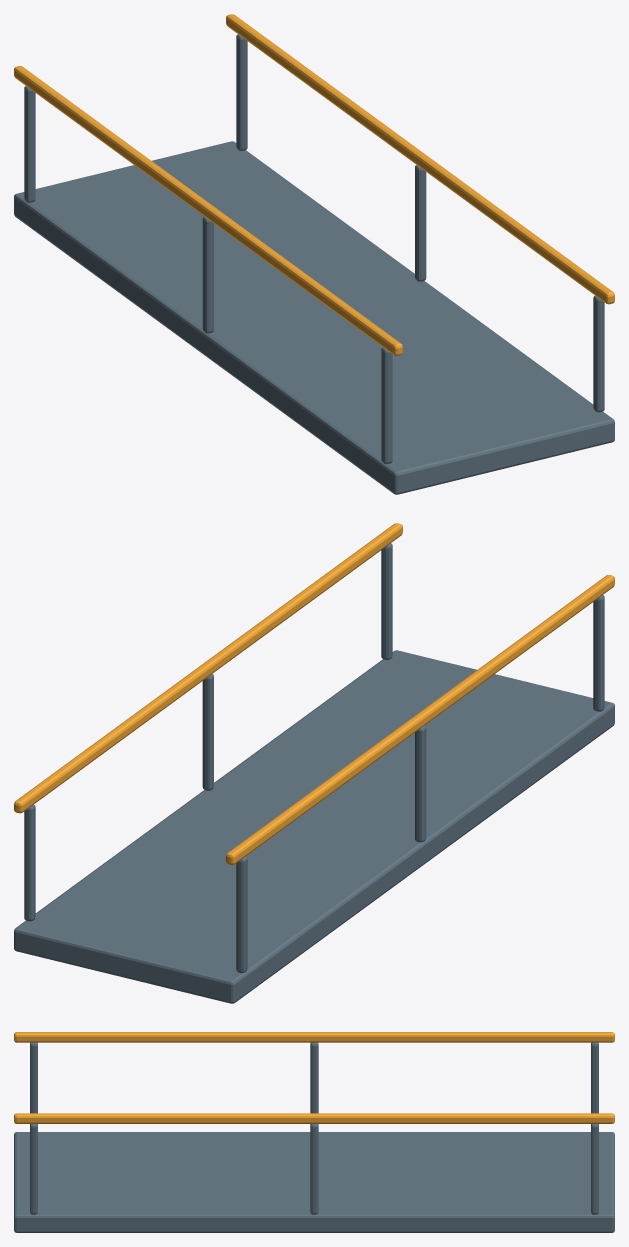
Rendered from CL_Bridge_2x6.fbx.
The picture shows the model from 3 angles, top to bottom: view 1: azimuth 30°, elevation 25°; view 2: azimuth 150°, elevation 25°; view 3: azimuth 270°, elevation 25°; orthographic projection. The views are drawn at different scales.
Visible parts, largest first — view 1: BridgeDeck, Rail.001, Rail, Post, Post.001, Post.003, Post.002, Post.005, Post.004; view 2: BridgeDeck, Rail.001, Rail, Post.001, Post.002, Post.005, Post, Post.003, Post.004; view 3: BridgeDeck, Rail, Rail.001, Post.004, Post.003, Post.005, Post.001, Post, Post.002.
Part boxes in pixels (x1,y1,x2,y2): BridgeDeck: (14,141,614,494); Rail.001: (226,14,614,304); Rail: (14,66,402,355); Post: (381,347,392,464); Post.001: (202,216,213,333); Post.003: (593,295,604,412); Post.002: (24,86,35,202); Post.005: (236,34,247,150); Post.004: (415,165,426,281); BridgeDeck: (14,650,614,1003); Rail.001: (14,523,402,813); Rail: (226,575,614,864); Post.001: (415,725,426,842); Post.002: (236,856,247,973); Post.005: (24,804,35,921); Post: (593,595,604,711); Post.003: (381,543,392,659); Post.004: (202,674,213,790); BridgeDeck: (14,1132,614,1232); Rail: (14,1032,614,1042); Rail.001: (14,1113,614,1123); Post.004: (310,1124,318,1214); Post.003: (30,1124,37,1214); Post.005: (591,1124,598,1214); Post.001: (310,1042,318,1124); Post: (30,1042,37,1124); Post.002: (591,1042,598,1124).
Bounding box in the file's own units: 2 × 1.3 × 6.
